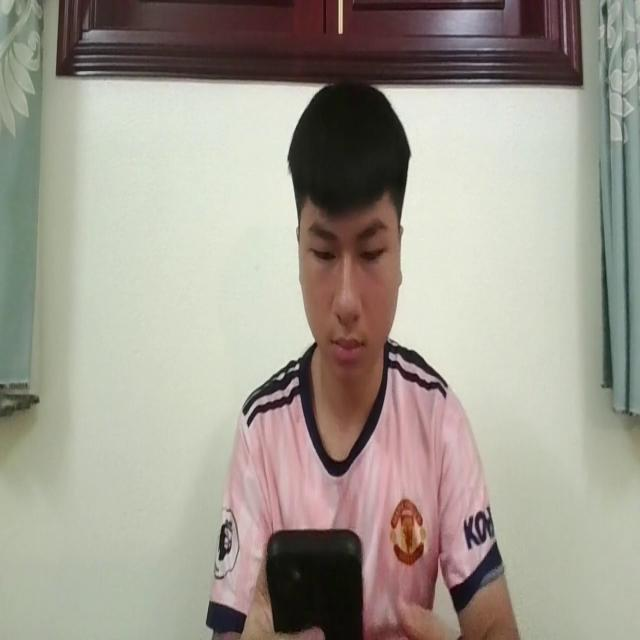phone: (266, 519, 365, 640)
student: (211, 73, 515, 640)
